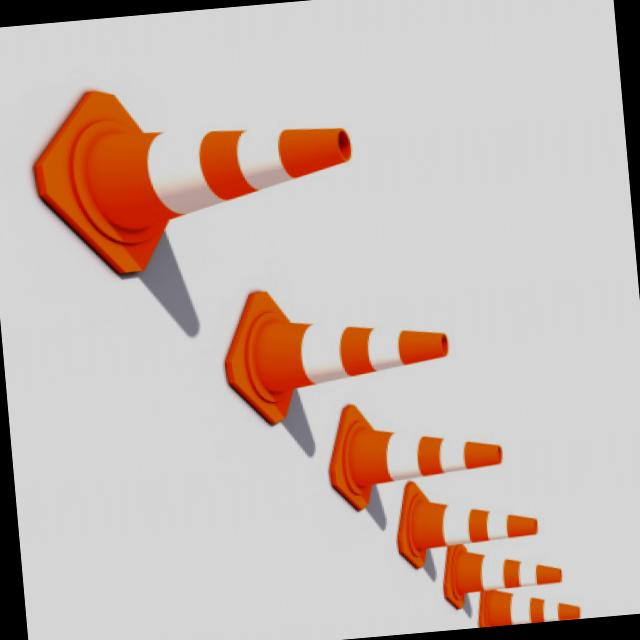cone: (18, 41, 402, 302), (196, 256, 503, 433)
